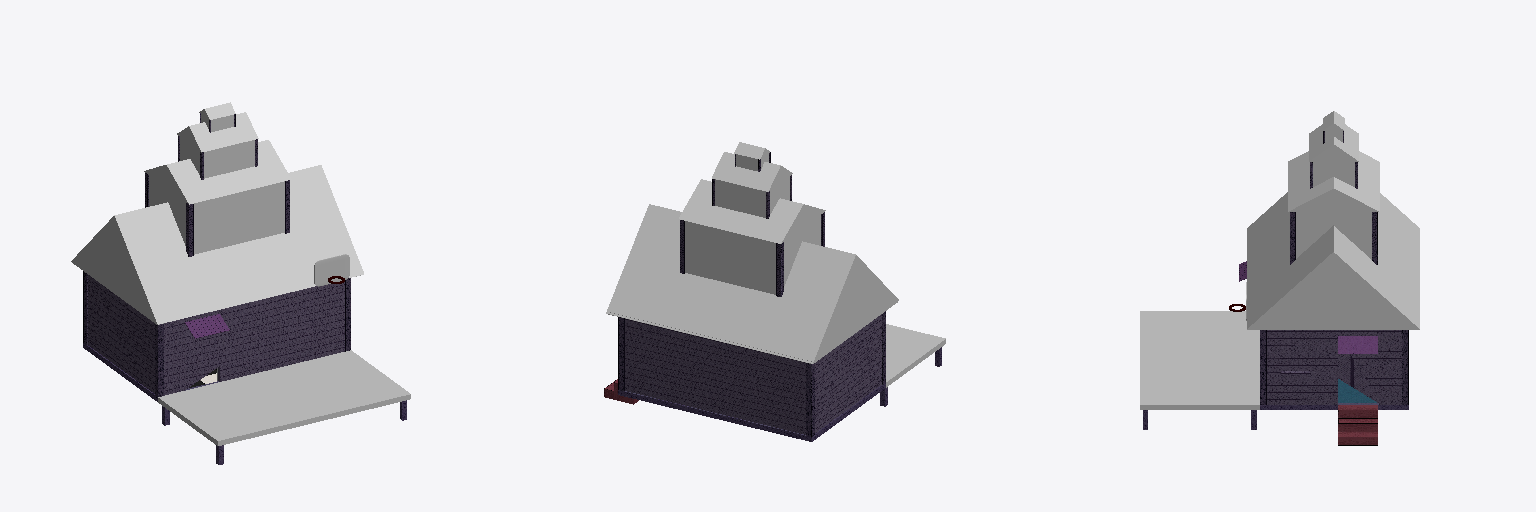
The picture shows the model from 3 angles: view 1: azimuth 30°, elevation 25°; view 2: azimuth 150°, elevation 25°; view 3: azimuth 270°, elevation 25°; orthographic projection.
Parts seen in each view (by area): view 1: Cilindro.001, Cube.004, Cube.003, Cubo, Cube.008, Cilindro, Cubo.001, Cilindro.002, Cubo.008, Cube.006, Cube.040, Cube.013; view 2: Cilindro.001, Cube.009, Cubo, Cube.008, Cilindro, Cube.004, Cubo.001, Cilindro.002, Cube.006, Cube.016; view 3: Cilindro.001, Cube.004, Cube.014, Cilindro, Cubo, Cube.043, Cilindro.002, Cube.006, Cubo.001, Cube.042, Cube.015, Cube.005.
Boxes of the visible parts, <box> form: Cilindro.001: <box>71,165,363,324</box>; Cube.004: <box>158,350,410,445</box>; Cube.003: <box>164,282,344,395</box>; Cubo: <box>149,176,284,254</box>; Cube.008: <box>88,275,154,393</box>; Cilindro: <box>144,140,291,204</box>; Cubo.001: <box>180,137,254,178</box>; Cilindro.002: <box>177,112,258,152</box>; Cubo.008: <box>314,254,349,286</box>; Cube.006: <box>83,343,218,401</box>; Cube.040: <box>185,314,229,338</box>; Cube.013: <box>155,324,163,396</box>; Cilindro.001: <box>606,204,898,363</box>; Cube.009: <box>625,319,805,434</box>; Cubo: <box>685,215,820,294</box>; Cube.008: <box>815,314,881,432</box>; Cilindro: <box>679,179,825,243</box>; Cube.004: <box>886,324,945,387</box>; Cubo.001: <box>715,177,789,217</box>; Cilindro.002: <box>712,152,792,191</box>; Cube.006: <box>618,383,885,441</box>; Cube.016: <box>806,363,814,436</box>; Cilindro.001: <box>1247,192,1419,329</box>; Cube.004: <box>1140,311,1259,409</box>; Cube.014: <box>1267,330,1401,404</box>; Cilindro: <box>1288,151,1379,211</box>; Cubo: <box>1296,212,1371,259</box>; Cube.043: <box>1338,405,1377,445</box>; Cilindro.002: <box>1309,124,1358,161</box>; Cube.006: <box>1260,379,1408,409</box>; Cubo.001: <box>1313,162,1354,186</box>; Cube.042: <box>1338,336,1377,353</box>; Cube.015: <box>1402,330,1408,404</box>; Cube.005: <box>1260,330,1266,404</box>.
Size of the model in its own units: 92.7 by 103 by 98.01.
Materials: 15 (7 with a texture image).